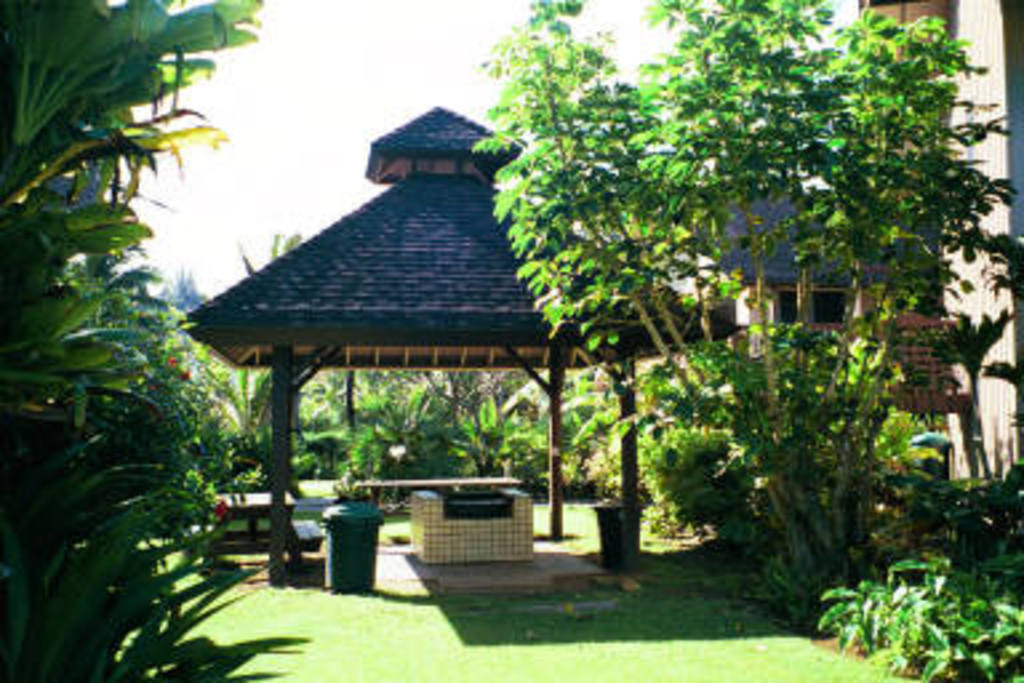Tree: (469, 1, 1023, 639), (0, 0, 275, 683)
